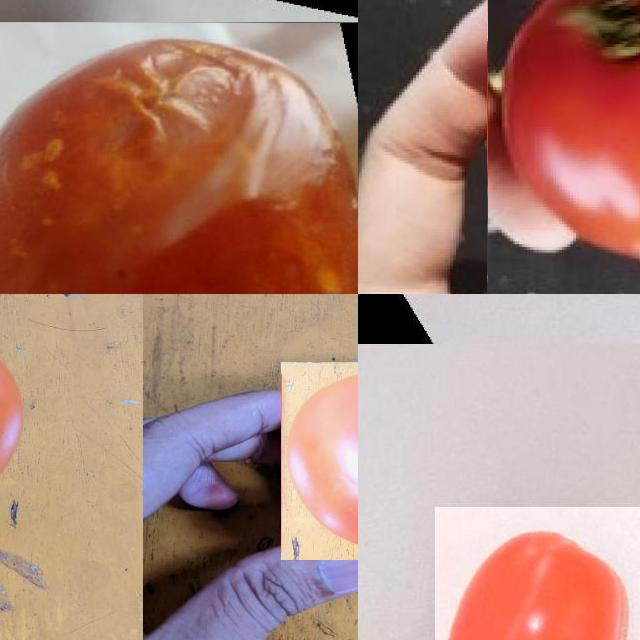0: (435, 507, 640, 640)
Fresh Tomato: (487, 0, 640, 294)
Rotten Tomato: (0, 21, 358, 294), (281, 362, 358, 560)
